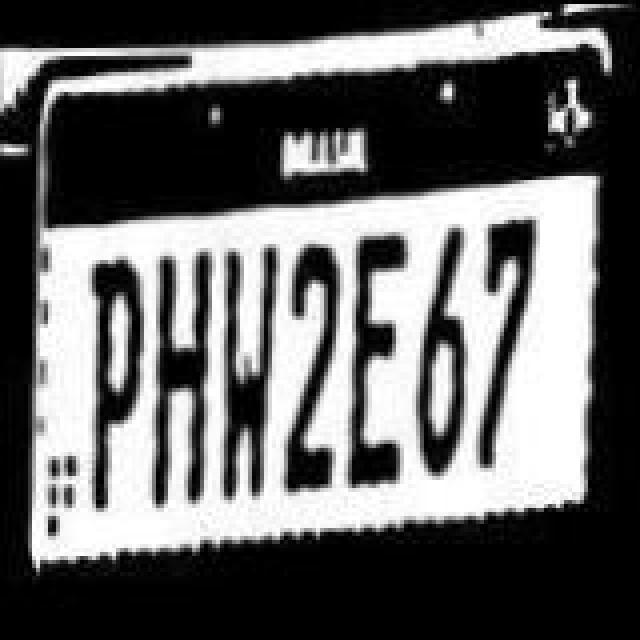2: (276, 230, 344, 502)
6: (412, 210, 472, 478)
7: (470, 206, 542, 478)
E: (338, 226, 410, 498)
H: (142, 242, 214, 518)
P: (84, 248, 148, 512)
W: (216, 236, 284, 508)
